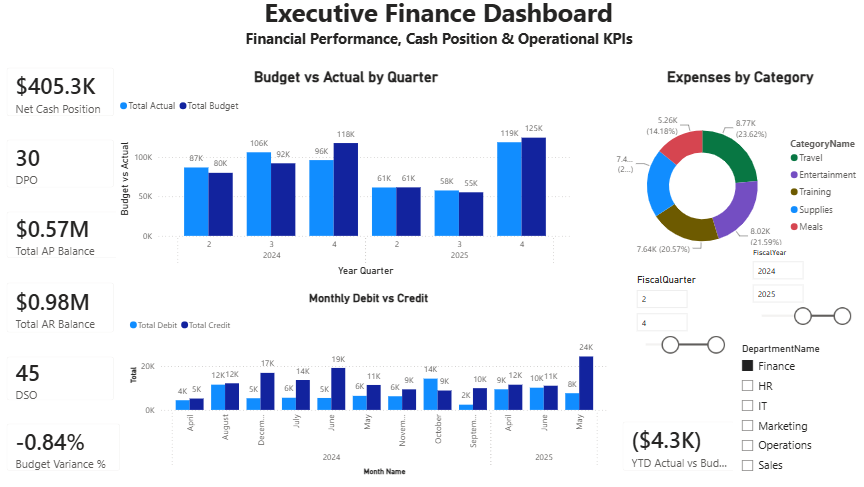

Layout of this report page (visuals, bound fields, positions):
{"tool":"powerbi","page":{"name":"Page 1","canvas":[1280,720],"ordinal":0},"visuals":[{"type":"cardVisual","title":"Net Cash Position","fields":{"Data":["dw FactGeneralLedger.Net Cash Position"]},"box":[0,95,191.7,105],"z":0},{"type":"textbox","box":[0,0,1269.9,95.7],"z":1000},{"type":"cardVisual","title":"DPO ","fields":{"Data":["dw FactAccountsPayable.DPO"]},"box":[0,200,191.5,104.1],"z":2000},{"type":"cardVisual","title":"Total AP Balance","fields":{"Data":["dw FactAccountsPayable.Total AP Balance"]},"box":[0,305.7,200,102.9],"z":3000},{"type":"cardVisual","title":"Total AR Balance","fields":{"Data":["dw FactAccountsReceivable.Total AR Balance"]},"box":[0,410,191.5,107.5],"z":4000},{"type":"cardVisual","title":"DSO","fields":{"Data":["dw FactAccountsReceivable.DSO"]},"box":[0,518.3,191.7,98.3],"z":5000},{"type":"cardVisual","fields":{"Data":["dw FactBudgetForecast.Budget Variance %"]},"box":[0,616.7,200,103.3],"z":6000},{"type":"clusteredColumnChart","title":"Budget vs Actual by Quarter","fields":{"Category":["dw DimDate.FiscalYear","dw DimDate.FiscalQuarter"],"Y":["dw FactBudgetForecast.Total Actual","dw FactBudgetForecast.Total Budget"]},"box":[177.1,112.9,672.9,310],"z":7000},{"type":"donutChart","title":"Expenses by Category","fields":{"Category":["dw DimExpenseCategory.CategoryName"],"Y":["dw FactExpenseClaims.Total Expenses by Category"]},"box":[901.7,113.3,378.3,310],"z":8000},{"type":"clusteredColumnChart","title":"Monthly Debit vs Credit","fields":{"Category":["dw DimDate.FiscalYear","dw DimDate.MonthName"],"Y":["dw FactGeneralLedger.Total Debit","dw FactGeneralLedger.Total Credit"]},"box":[191.7,438.3,710,275],"z":9000},{"type":"actionButton","box":[0,0,100,40],"z":10000},{"type":"cardVisual","fields":{"Data":["dw FactBudgetForecast.YTD Actual vs Budget"]},"box":[901.7,613.3,198.3,106.7],"z":10001},{"type":"slicer","fields":{"Values":["dw DimDepartment.DepartmentName"]},"box":[1080,510,200,205],"z":10003},{"type":"slicer","fields":{"Values":["dw DimDate.FiscalYear"]},"box":[1096.7,371.7,165,138.3],"z":10004},{"type":"slicer","fields":{"Values":["dw DimDate.FiscalQuarter"]},"box":[926.7,410,150,158.3],"z":10005}]}

Visuals, with their boxes in screenshot pixels (x1, y1, x2, y2), scaled from the page's 1280x720 canvas onto the 864x487 screenshot:
"Net Cash Position" cardVisual: [0, 64, 129, 135]
textbox: [0, 0, 857, 65]
"DPO " cardVisual: [0, 135, 129, 206]
"Total AP Balance" cardVisual: [0, 207, 135, 276]
"Total AR Balance" cardVisual: [0, 277, 129, 350]
"DSO" cardVisual: [0, 351, 129, 417]
cardVisual - dw FactBudgetForecast.Budget Variance %: [0, 417, 135, 486]
"Budget vs Actual by Quarter" clusteredColumnChart: [120, 76, 574, 286]
"Expenses by Category" donutChart: [609, 77, 863, 286]
"Monthly Debit vs Credit" clusteredColumnChart: [129, 296, 609, 482]
actionButton: [0, 0, 68, 27]
cardVisual - dw FactBudgetForecast.YTD Actual vs Budget: [609, 415, 742, 486]
slicer - dw DimDepartment.DepartmentName: [729, 345, 863, 484]
slicer - dw DimDate.FiscalYear: [740, 251, 852, 345]
slicer - dw DimDate.FiscalQuarter: [626, 277, 727, 384]
